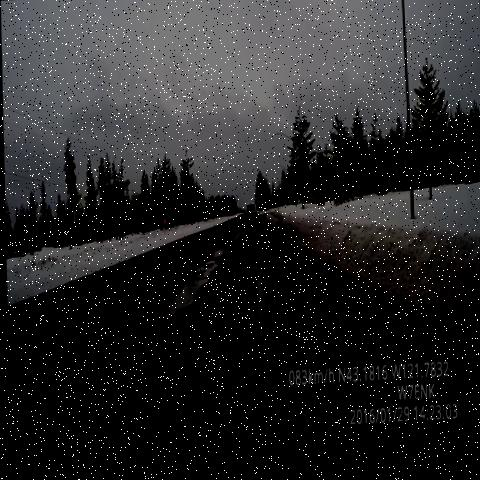pothole: (153, 251, 226, 344), (226, 221, 244, 239)
